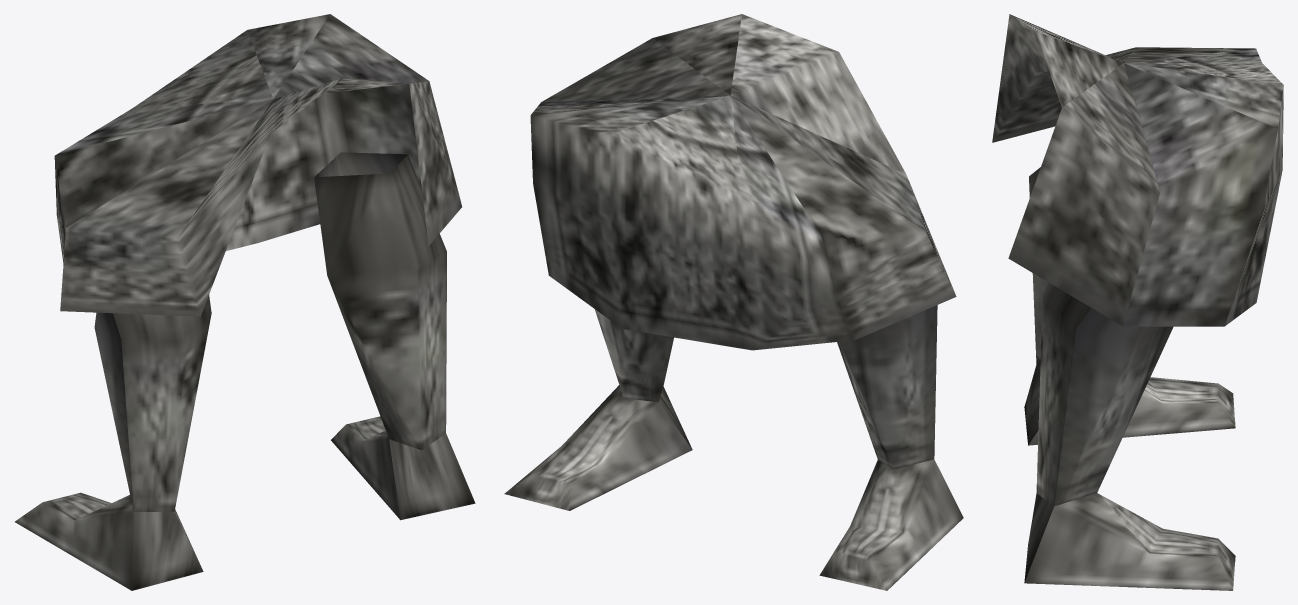
3 renders of one model, left to right at view 1: azimuth 30°, elevation 25°; view 2: azimuth 150°, elevation 25°; view 3: azimuth 270°, elevation 25°, orthographic. The views are drawn at different scales.
Parts seen in each view (by area): view 1: np165; view 2: np165; view 3: np165.
Boxes of the visible parts, x1=… form: np165: x1=15, y1=14, x2=475, y2=590; np165: x1=504, y1=14, x2=963, y2=590; np165: x1=992, y1=14, x2=1283, y2=590.
Size of the model in its own units: 95.12 by 102 by 54.77.
